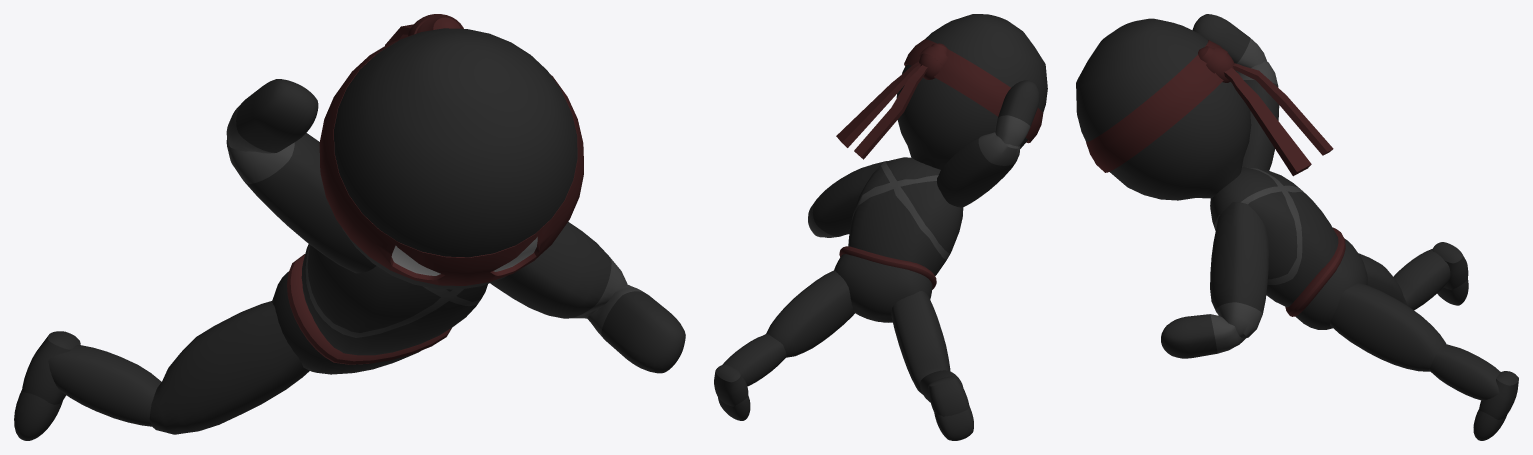
Rendered from ninja_skydive.fbx.
3 renders of one model, left to right at view 1: azimuth 30°, elevation 25°; view 2: azimuth 150°, elevation 25°; view 3: azimuth 270°, elevation 25°, orthographic. The views are drawn at different scales.
Parts seen in each view (by area): view 1: ninja_skydive; view 2: ninja_skydive; view 3: ninja_skydive.
Boxes of the visible parts, x1,y1,x2,y2 form: ninja_skydive: (14,14,685,440); ninja_skydive: (714,14,1047,440); ninja_skydive: (1076,14,1518,440).
Size of the model in its own units: 131 by 151 by 168.
